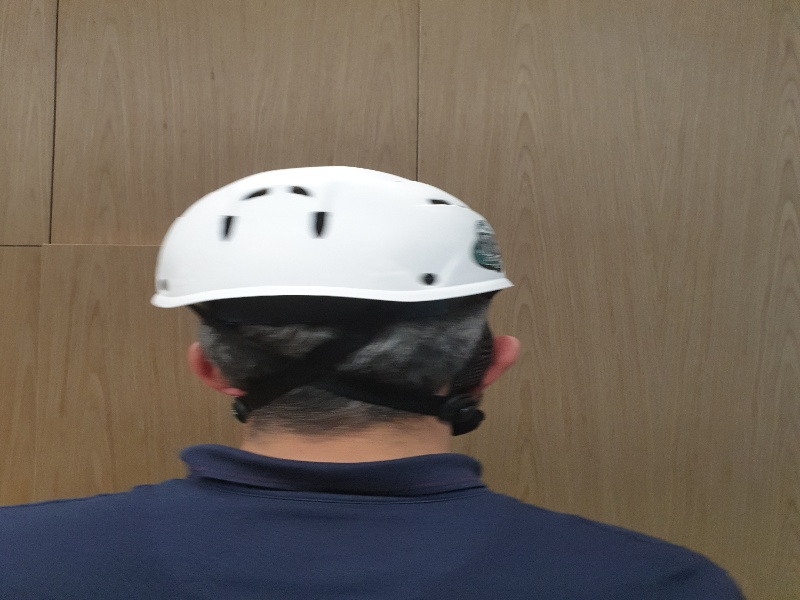Baret: (153, 165, 514, 304)
